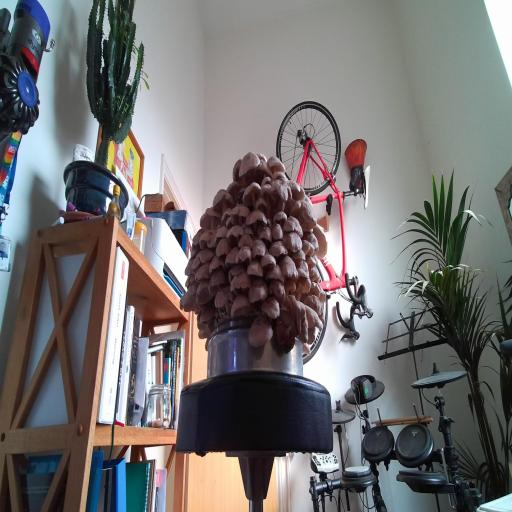Shiitake Mushroom: (282, 189, 328, 238), (265, 312, 306, 356), (276, 291, 309, 336), (265, 171, 297, 217), (233, 144, 265, 188), (244, 310, 276, 351), (198, 262, 234, 298), (210, 278, 240, 320), (236, 173, 267, 213), (305, 220, 334, 262), (238, 203, 274, 236), (296, 304, 331, 336), (177, 281, 204, 319), (297, 287, 330, 317), (255, 180, 281, 218), (249, 156, 278, 190), (185, 244, 220, 272), (221, 216, 249, 251), (276, 250, 301, 288), (209, 184, 236, 219), (200, 198, 227, 232), (191, 275, 215, 309), (253, 220, 280, 250), (228, 199, 252, 232), (267, 205, 293, 233), (297, 227, 325, 253), (304, 279, 332, 304), (223, 172, 246, 202), (279, 213, 307, 237), (208, 222, 234, 247), (230, 292, 254, 318), (229, 268, 252, 295), (247, 276, 269, 304), (188, 222, 212, 247), (203, 251, 229, 274), (261, 293, 282, 321), (198, 303, 218, 332), (223, 241, 241, 271), (266, 238, 291, 259), (230, 157, 246, 189), (297, 237, 320, 259), (287, 181, 305, 209), (282, 230, 303, 253), (224, 260, 243, 285), (253, 193, 271, 217), (193, 261, 211, 284), (302, 249, 319, 273), (295, 276, 312, 299), (264, 263, 285, 281), (295, 258, 312, 280), (268, 279, 285, 301), (215, 236, 232, 257), (218, 204, 235, 225), (193, 315, 210, 336), (267, 155, 286, 173), (307, 267, 324, 287), (251, 237, 267, 258), (299, 313, 310, 343), (184, 252, 196, 279), (259, 252, 278, 269), (235, 245, 252, 263), (199, 231, 216, 249), (247, 260, 263, 276), (316, 288, 330, 306), (284, 277, 297, 296), (182, 273, 198, 288), (290, 248, 307, 262), (258, 174, 275, 188), (199, 211, 211, 229), (238, 234, 253, 248), (272, 222, 283, 240), (307, 325, 316, 345), (242, 224, 255, 236), (255, 151, 269, 161), (273, 171, 286, 181), (192, 242, 202, 253), (303, 343, 311, 356), (191, 250, 199, 260), (202, 330, 211, 338), (309, 267, 315, 276)
